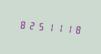eight: (71, 21, 79, 36), (17, 17, 25, 31)
five: (35, 18, 43, 33)
one: (44, 19, 52, 34), (53, 20, 61, 34), (62, 21, 70, 35)
two: (26, 17, 34, 32)
